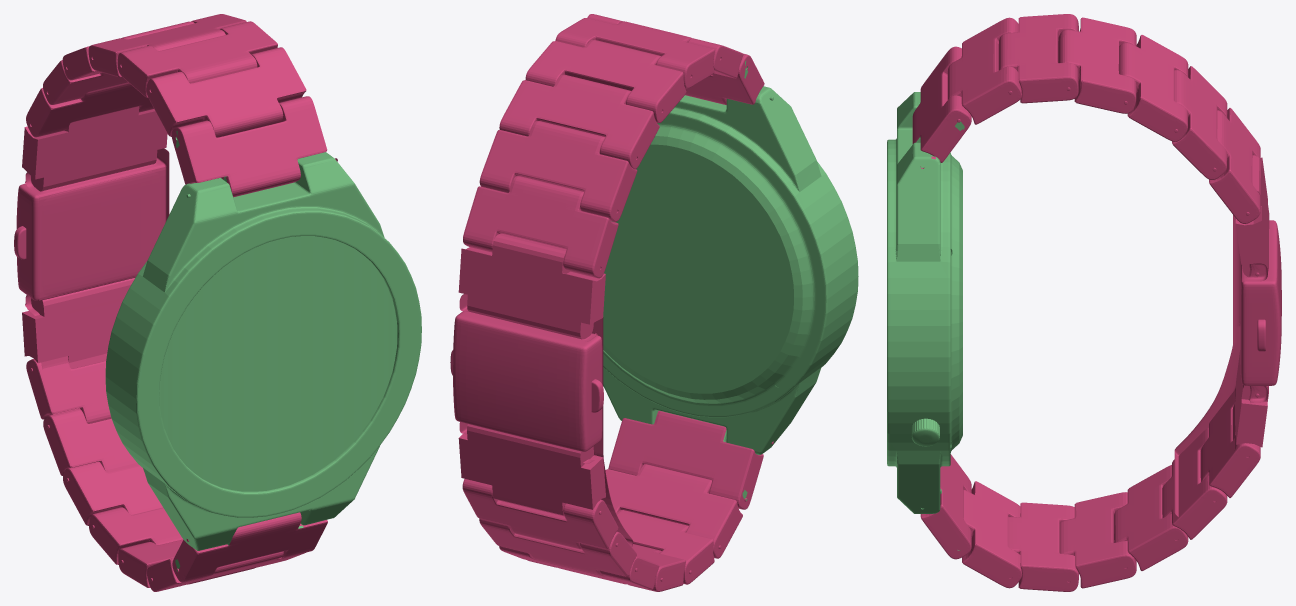
Rendered from full_18_coarse.glb.
The picture shows the model from 3 angles, left to right: view 1: azimuth 30°, elevation 25°; view 2: azimuth 150°, elevation 25°; view 3: azimuth 270°, elevation 25°; orthographic projection.
Visible parts, largest first — view 1: world; view 2: world; view 3: world.
Part boxes in pixels (box(x1,y1,x2,y2)): world: box(14, 14, 421, 591); world: box(450, 14, 858, 591); world: box(887, 14, 1281, 591).
Bounding box in the file's own units: 0.429 × 0.742 × 0.5152.
